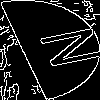N: (24, 25, 100, 73)
